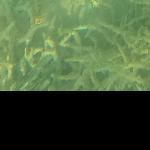dead: (6, 5, 141, 86)
